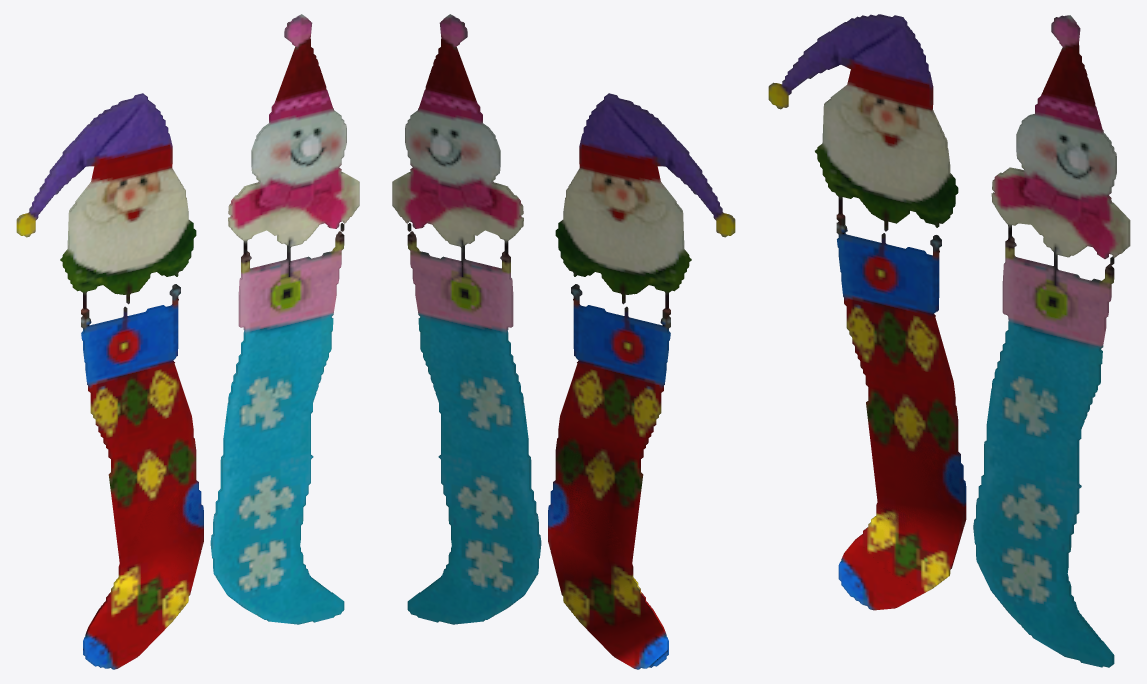
The model's file is furni_0200213.FBX.
3 views of the same model, side by side, from view 1: azimuth 30°, elevation 25°; view 2: azimuth 150°, elevation 25°; view 3: azimuth 330°, elevation 25° (orthographic). The views are drawn at different scales.
Visible parts, largest first — view 1: furni_0200213; view 2: furni_0200213; view 3: furni_0200213.
Part boxes in pixels (box(x1,y1,x2,y2)): furni_0200213: box(16, 14, 359, 669); furni_0200213: box(392, 14, 735, 669); furni_0200213: box(768, 14, 1130, 667).
Bounding box in the file's own units: 84.45 × 142 × 0.4857.
1 material, 1 textured.
